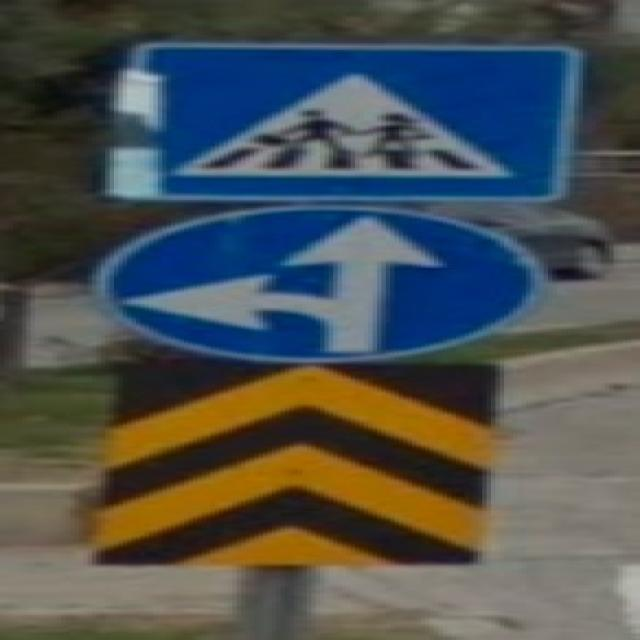Straight or Left: (89, 206, 545, 362)
